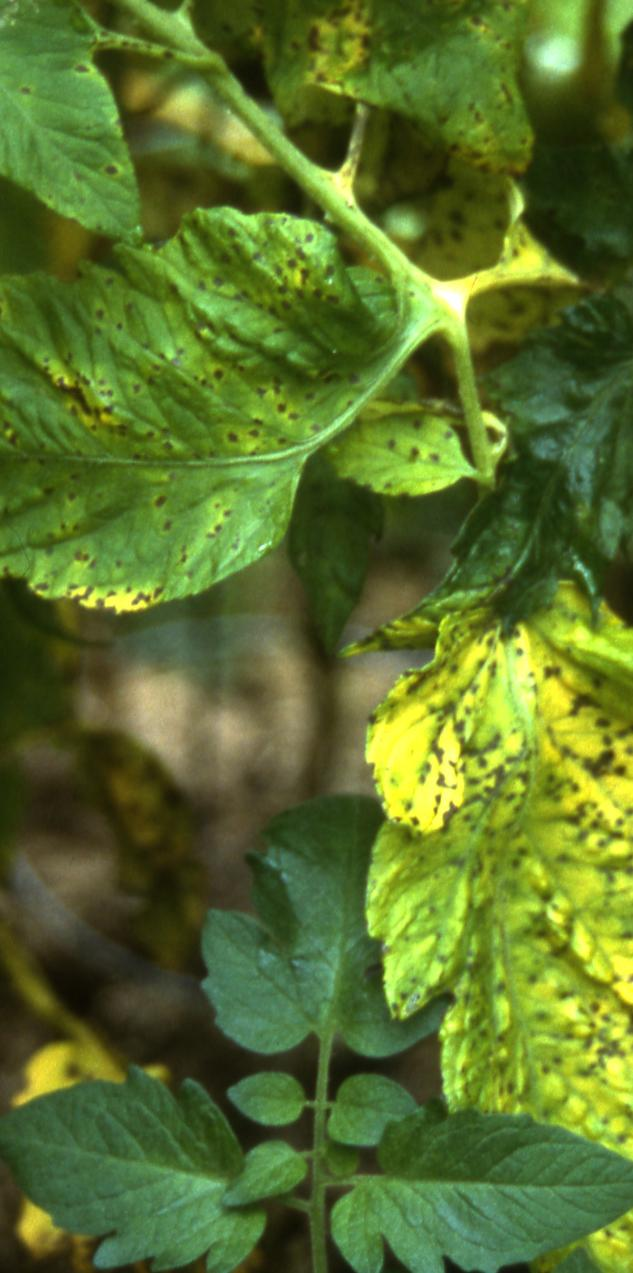Tomato Septoria leaf spot: (0, 165, 482, 647), (349, 480, 633, 1273), (0, 0, 186, 264)
